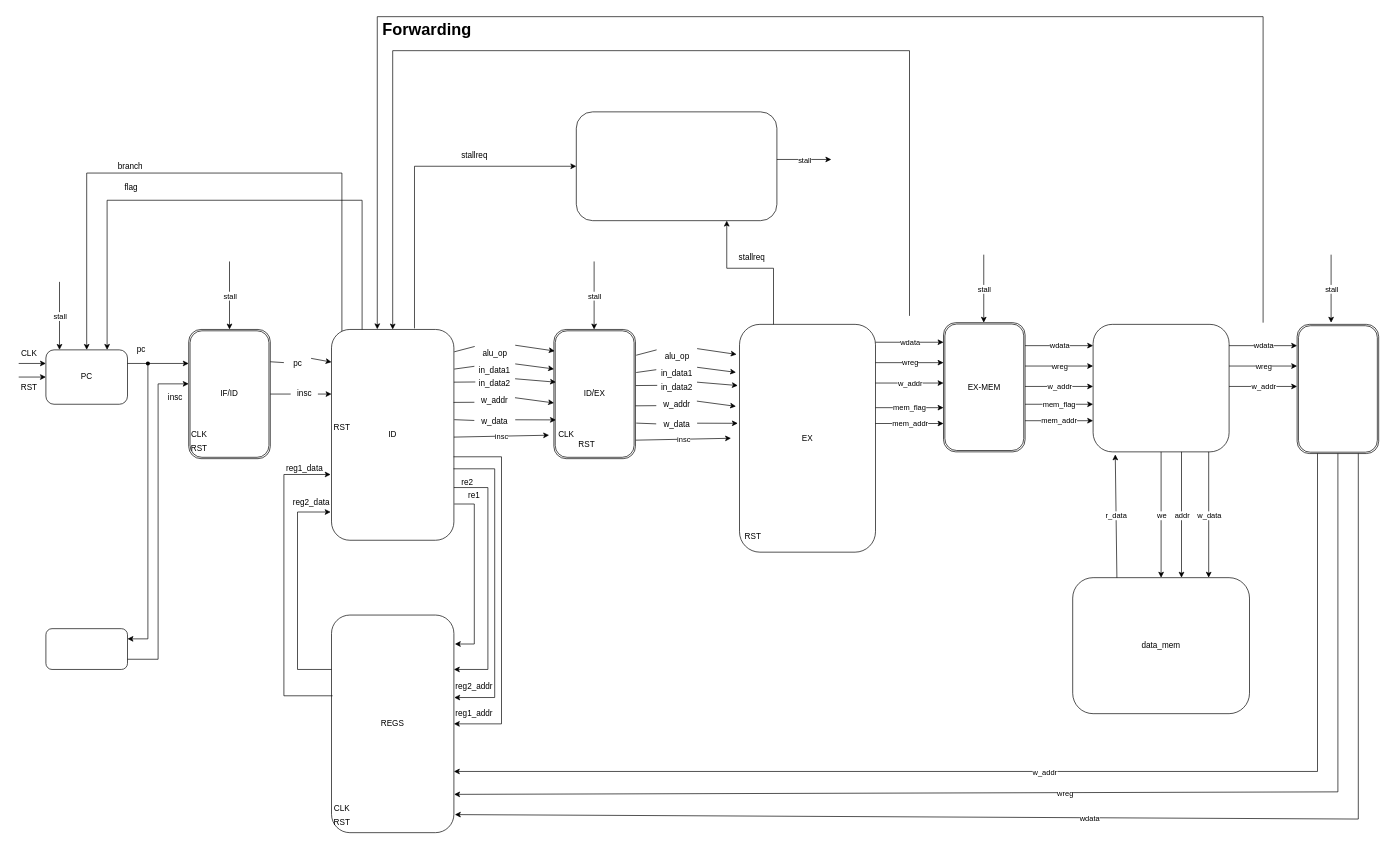
Some shapes in this 1391 by 845 pixel diagram are drawn without their labels. Each missing label, with the centre of its shape:
CU: point (676, 166)
INS MEM: point (86, 648)
mem: point (1160, 388)
mem/wb: point (1337, 389)
